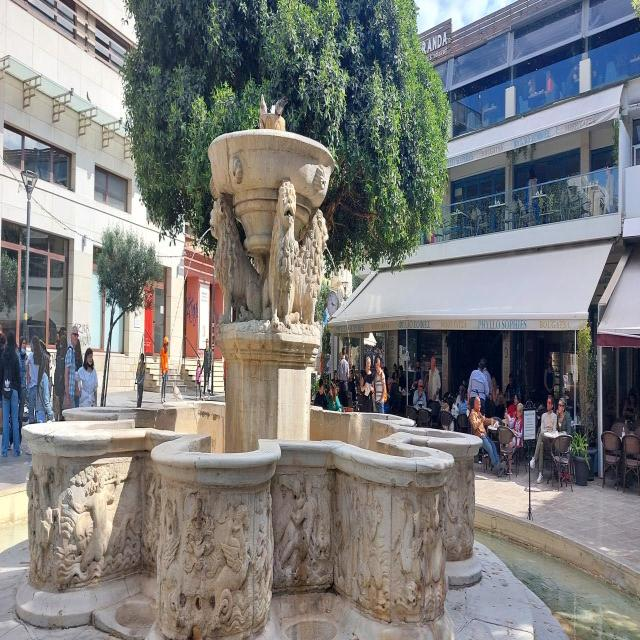Liontaria: (19, 105, 488, 639)
